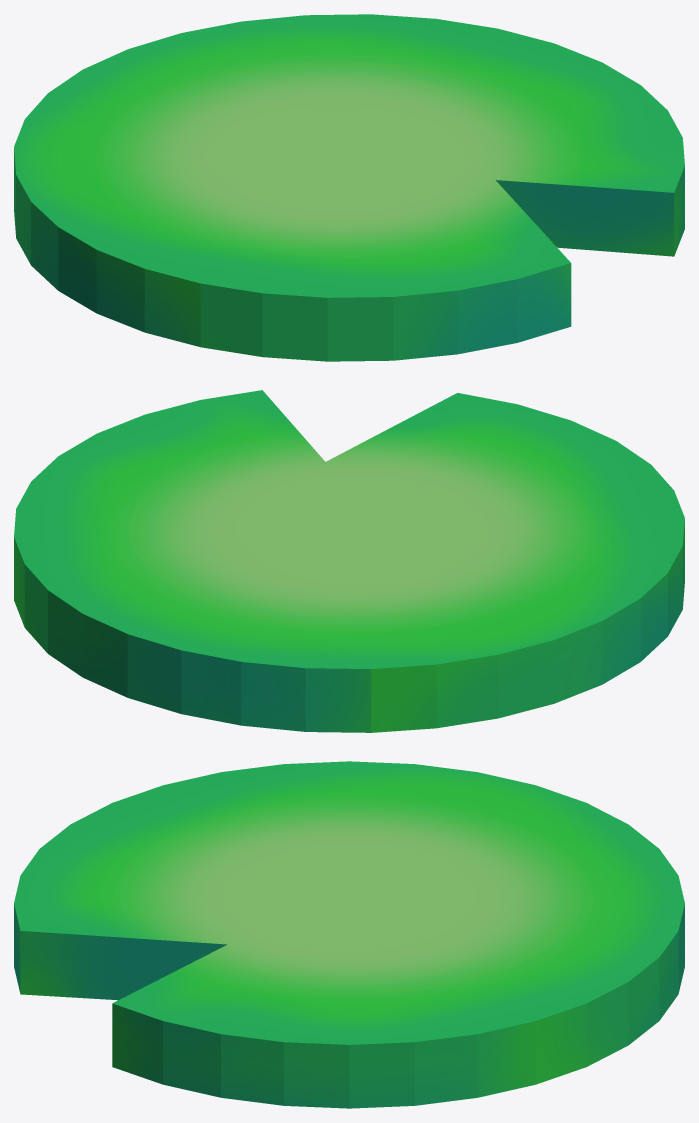
Rendered from nenufar.fbx.
3 views of the same model, one above another, from view 1: azimuth 30°, elevation 25°; view 2: azimuth 150°, elevation 25°; view 3: azimuth 270°, elevation 25° (orthographic).
Visible parts, largest first — view 1: Cylinder; view 2: Cylinder; view 3: Cylinder.
Part boxes in pixels (left/top/right/bottom): Cylinder: left=14, top=14, right=684, bottom=361; Cylinder: left=14, top=390, right=684, bottom=732; Cylinder: left=14, top=761, right=684, bottom=1108.
Bounding box in the file's own units: 425 × 44.49 × 425.
